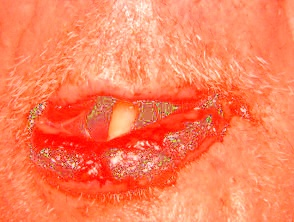SJS-TEN: (14, 79, 264, 210)
